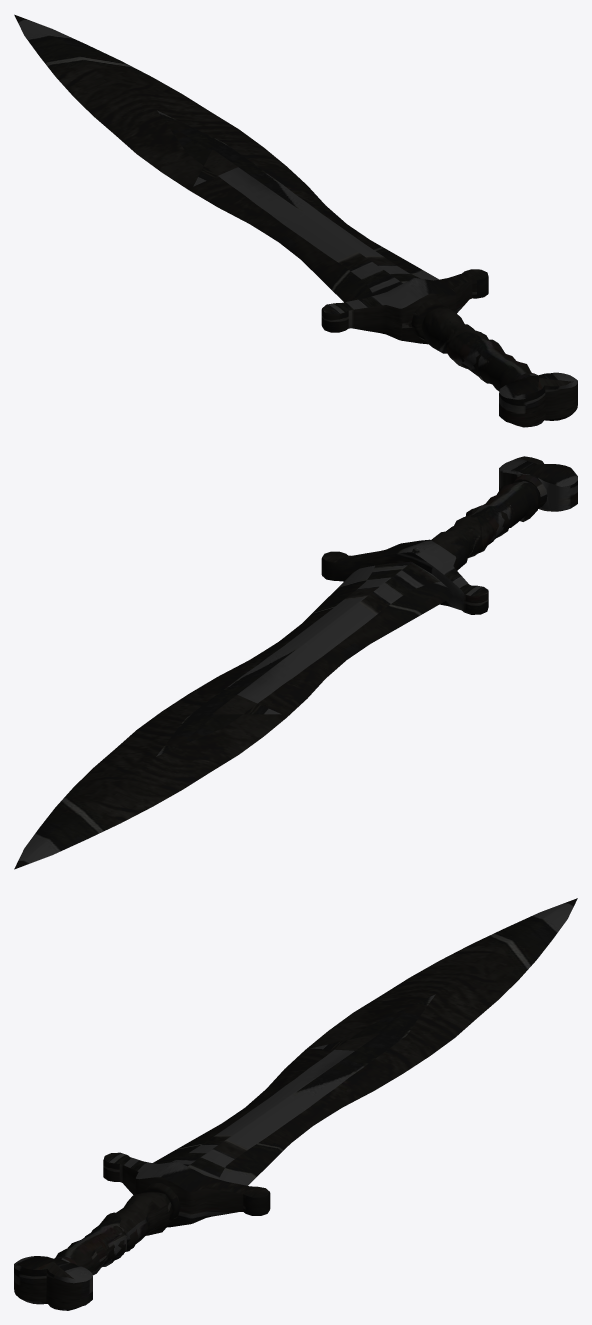
The picture shows the model from 3 angles, top to bottom: view 1: azimuth 30°, elevation 25°; view 2: azimuth 150°, elevation 25°; view 3: azimuth 330°, elevation 25°; orthographic projection.
Visible parts, largest first — view 1: mesh_0; view 2: mesh_0; view 3: mesh_0.
Part boxes in pixels (bbox=[...]): mesh_0: bbox=[14, 14, 577, 427]; mesh_0: bbox=[14, 456, 577, 869]; mesh_0: bbox=[14, 898, 577, 1310].
Size of the model in its own units: 7.63 by 2.63 by 43.23.
Materials: 1 (1 with a texture image).
